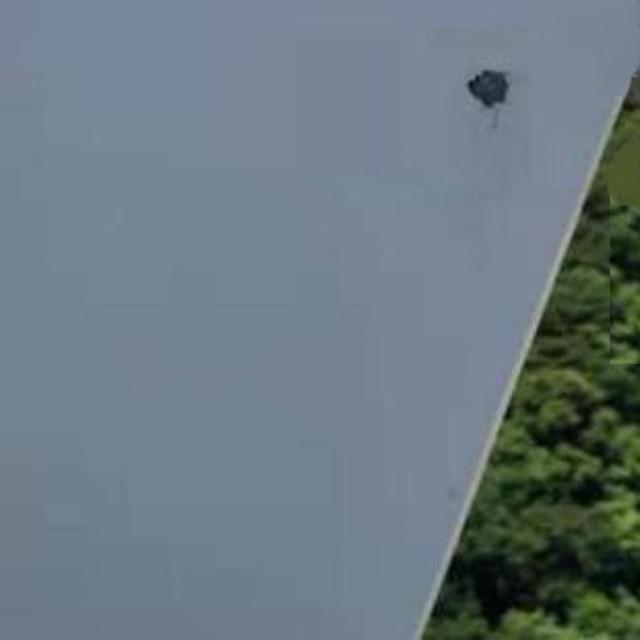surface_peeling: (463, 66, 516, 111)
